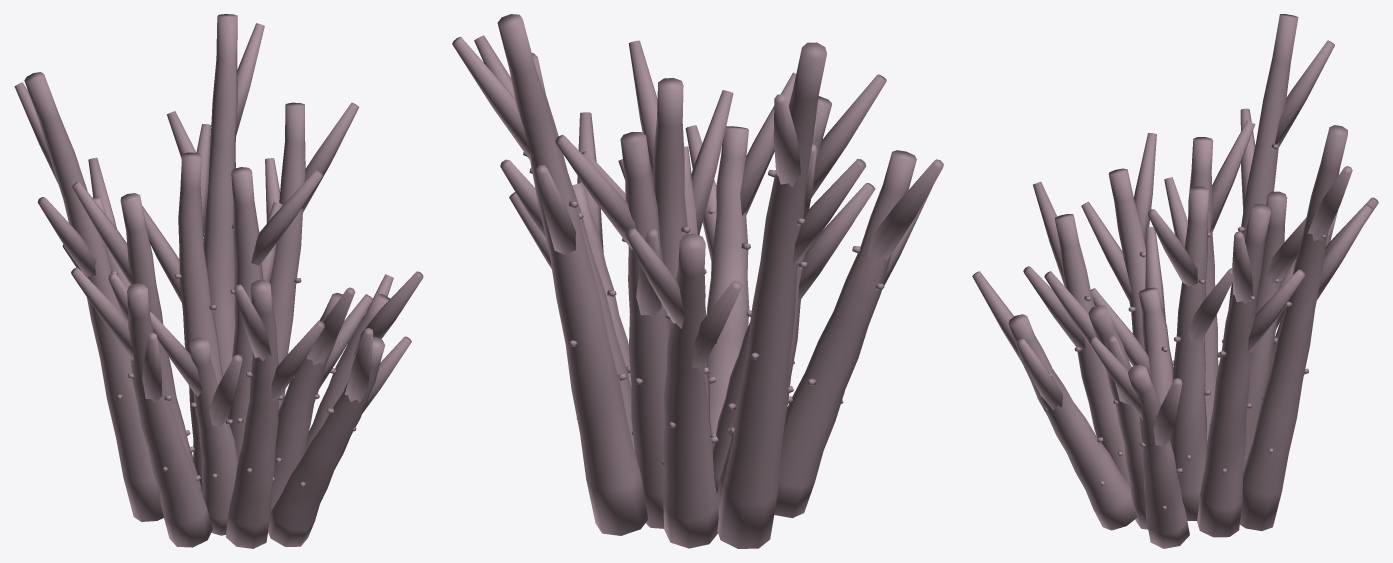
Rendered from pocillo-mobile.glb.
The picture shows the model from 3 angles, left to right: view 1: azimuth 30°, elevation 25°; view 2: azimuth 150°, elevation 25°; view 3: azimuth 270°, elevation 25°; orthographic projection. The views are drawn at different scales.
Visible parts, largest first — view 1: branch, lateral-branch, radial-corallite; view 2: branch, lateral-branch, radial-corallite; view 3: branch, lateral-branch, radial-corallite.
Part boxes in pixels (x1,y1,x2,y2): branch: (24,14,390,548); lateral-branch: (14,23,423,427); radial-corallite: (110,224,356,486); branch: (497,14,916,548); lateral-branch: (452,35,943,372); radial-corallite: (523,152,884,465); branch: (1008,14,1347,548); lateral-branch: (972,40,1378,446); radial-corallite: (1044,144,1326,509).
Size of the model in its own units: 0.4865 by 0.6171 by 0.5257.
